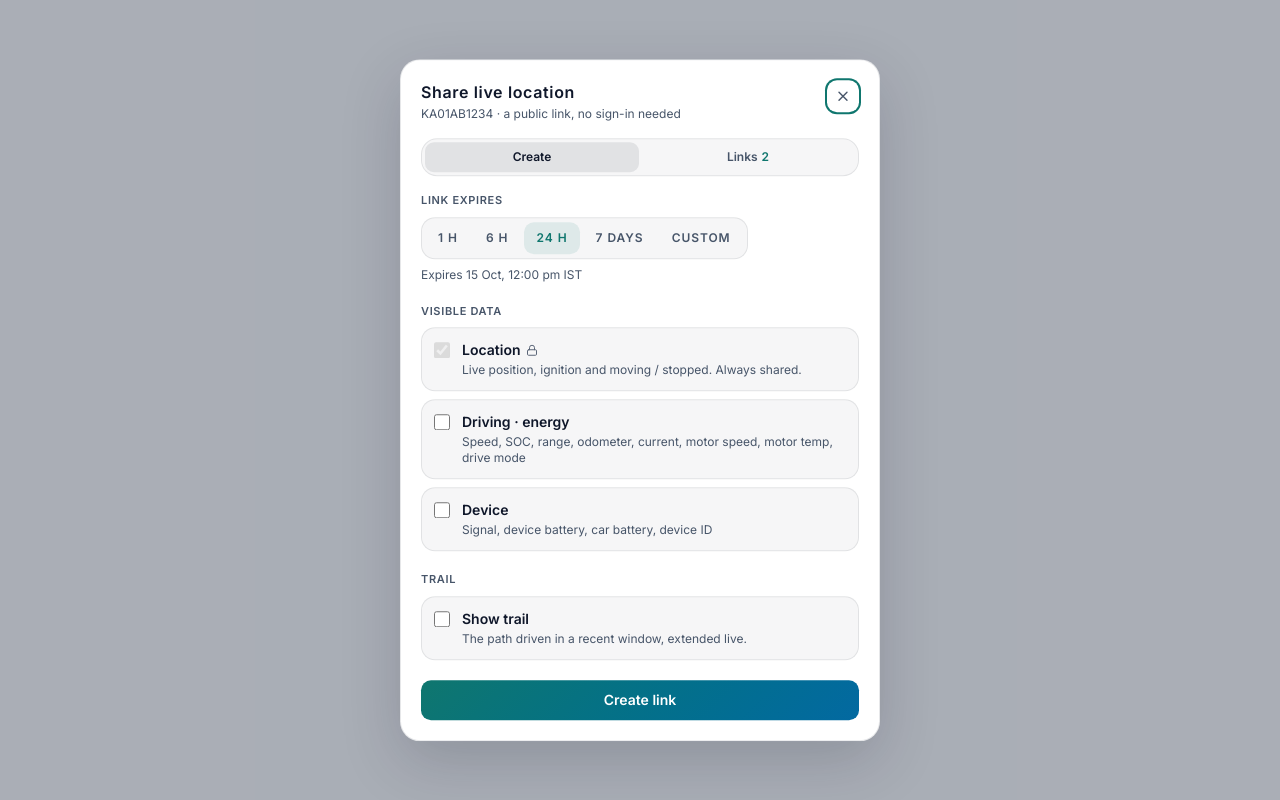
Test: F10-T2: share dialog › Links tab: count, statuses, chips, creator; inactive collapsed; revoke with confirm
Expected: the dialog "Share live location" is shown, [400,59,880,741]
Step 1. Click the tab "Links2" → coordinates (748, 157), box [641,142,855,172]
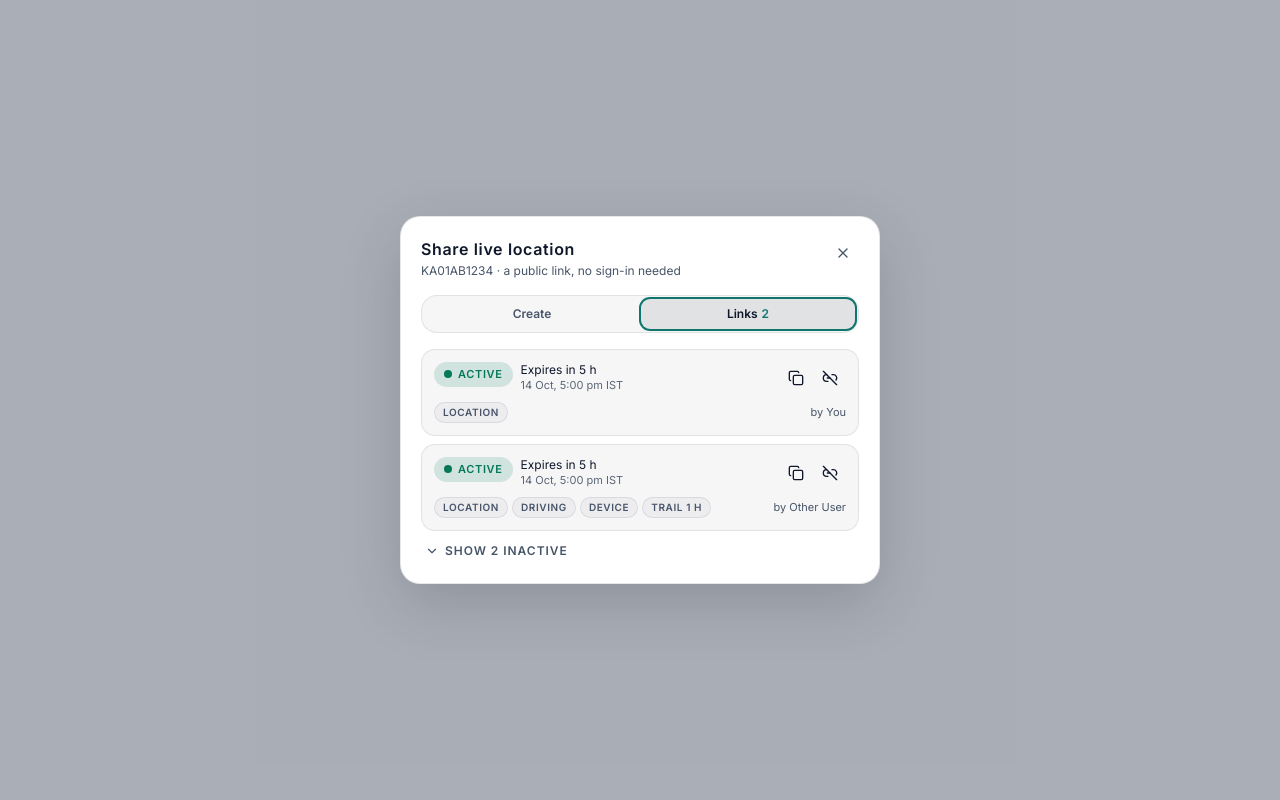
Expected: the list item "Active Expires in 5 h 14 Oct, 5:00 pm IST Location by You" is shown, [421,349,859,436]
Expected: the list named "Shared data" reads "Location Driving Device Trail 1 h", [434,497,711,518]
Expected: the list item that starts with "Active" shows "by Other User", [421,444,859,531]
Step 2. Click the button "Show 2 inactive" → coordinates (496, 551), box [421,539,572,563]
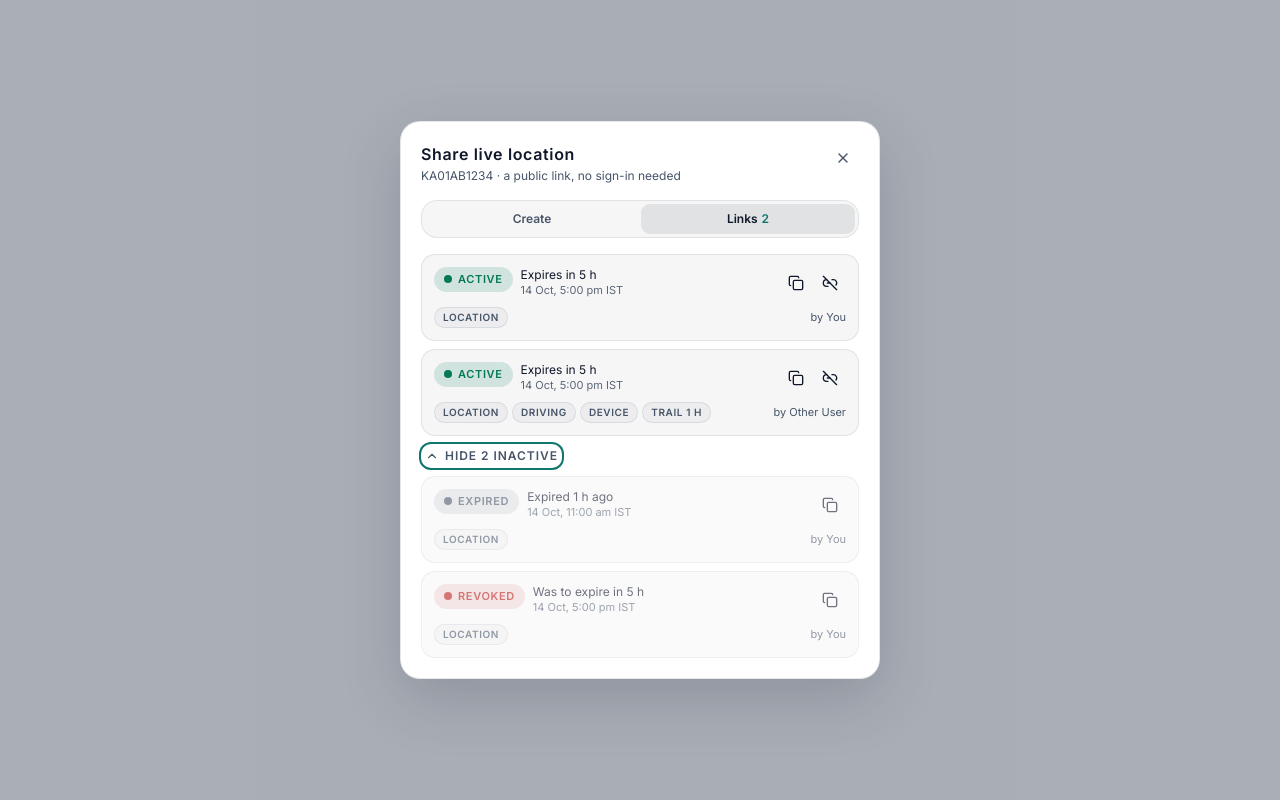
Expected: the number of buttons named "Revoke link" is 2
Step 3. Click the 2nd button named "Revoke link" → coordinates (830, 378), box [814,362,846,394]
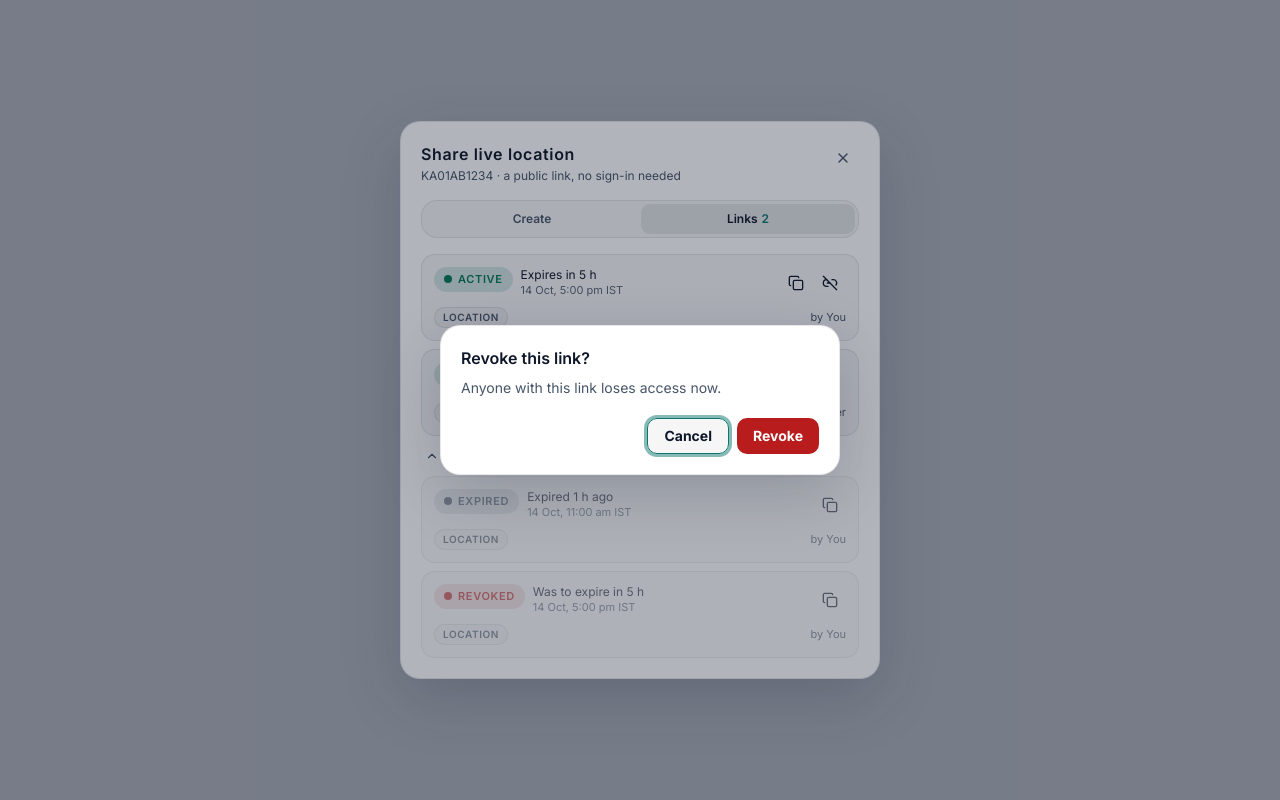
Expected: the dialog "Revoke this link?" shows "Anyone with this link loses access now.", [461,379,721,396]
Step 4. Click the button "Revoke" → coordinates (778, 436), box [737,418,819,454]
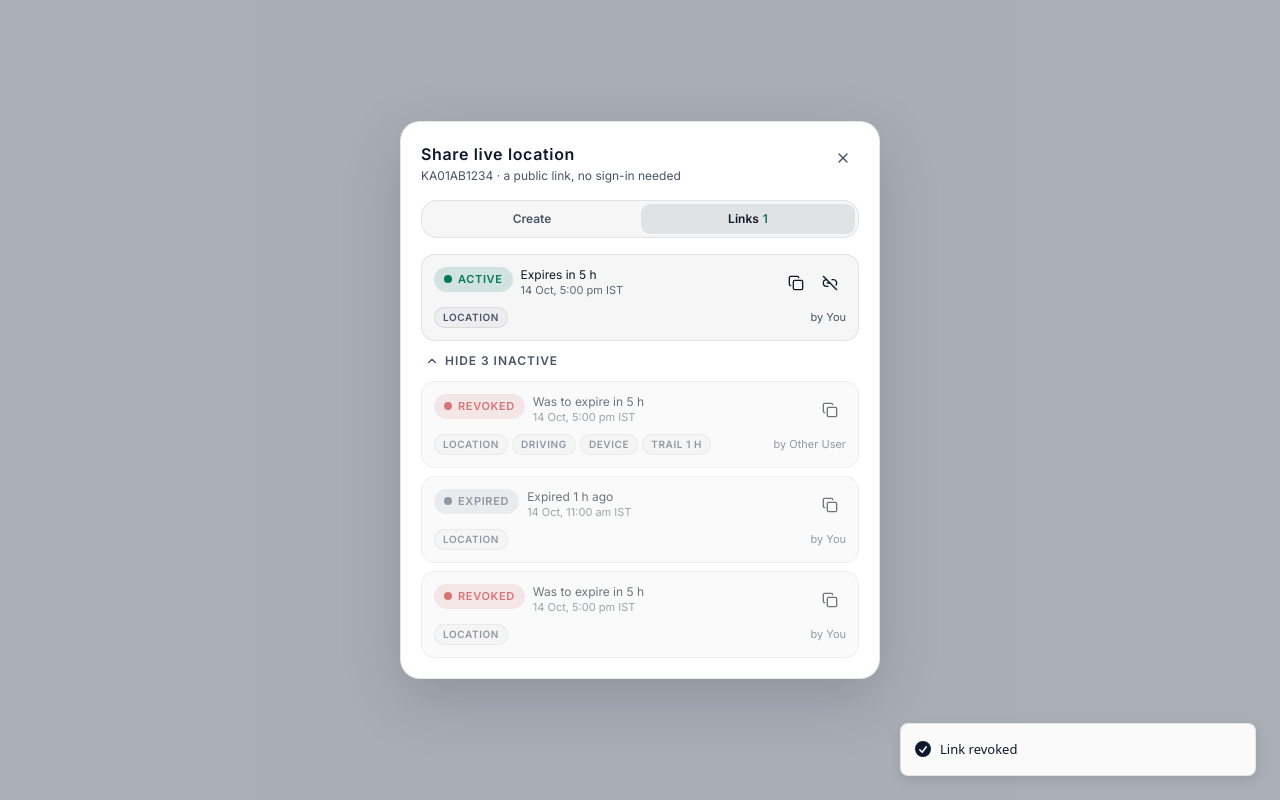
Expected: the tab "Links1" is shown, [641,204,855,234]
Expected: the text "Link revoked" is shown, [940,740,1018,759]
Expected: the button "Hide 3 inactive" is shown, [421,349,562,373]
